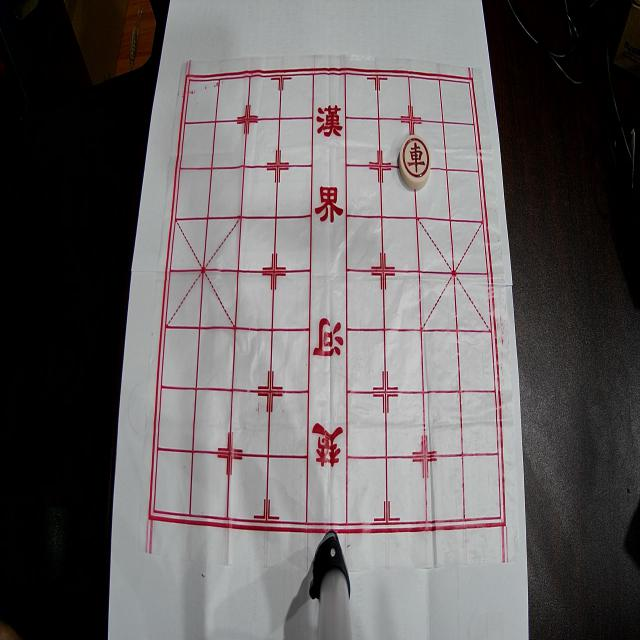red-chariot: (399, 135, 431, 189)
